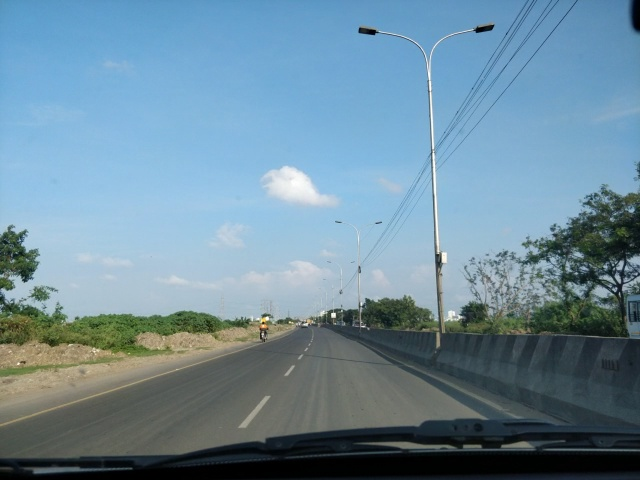car: (296, 316, 315, 330)
motorbike: (254, 312, 274, 343)
